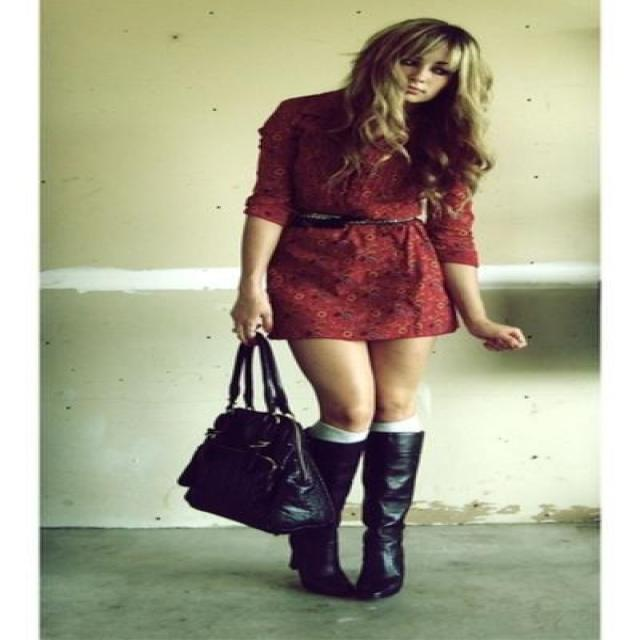bag: (178, 344, 328, 534)
dress: (242, 90, 478, 346)
shoe: (288, 422, 422, 600)
